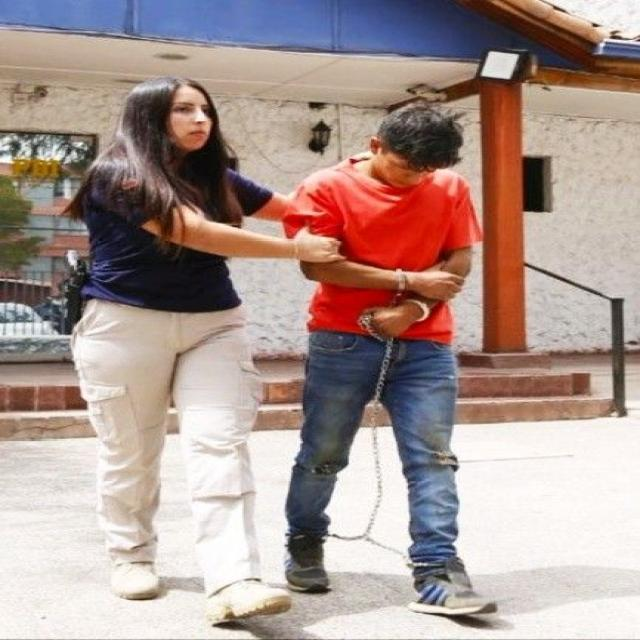9_cabeza_baja: (368, 102, 463, 190)
